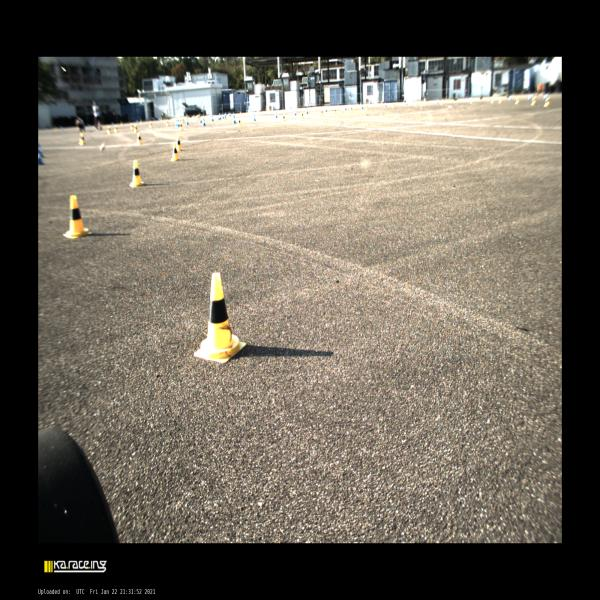blue_cone: (202, 118, 206, 126), (186, 118, 190, 125), (233, 116, 236, 123), (211, 115, 214, 121), (254, 113, 256, 121), (276, 112, 278, 118), (294, 110, 296, 115), (306, 109, 308, 114)
yellow_cone: (193, 272, 246, 364), (63, 196, 92, 238), (129, 160, 144, 187), (170, 143, 180, 162), (176, 136, 183, 151), (135, 133, 143, 145), (79, 132, 86, 145), (282, 112, 286, 122), (107, 125, 111, 134), (134, 123, 138, 132), (114, 124, 118, 132), (179, 123, 183, 131), (149, 121, 153, 128), (238, 118, 241, 126), (301, 112, 304, 118), (321, 109, 323, 116)
